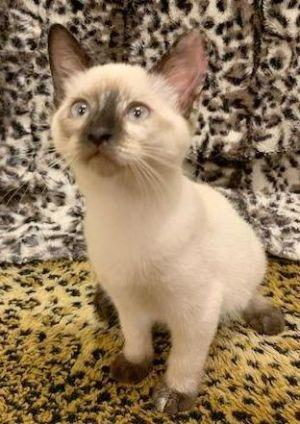siamese: (39, 19, 217, 204)
